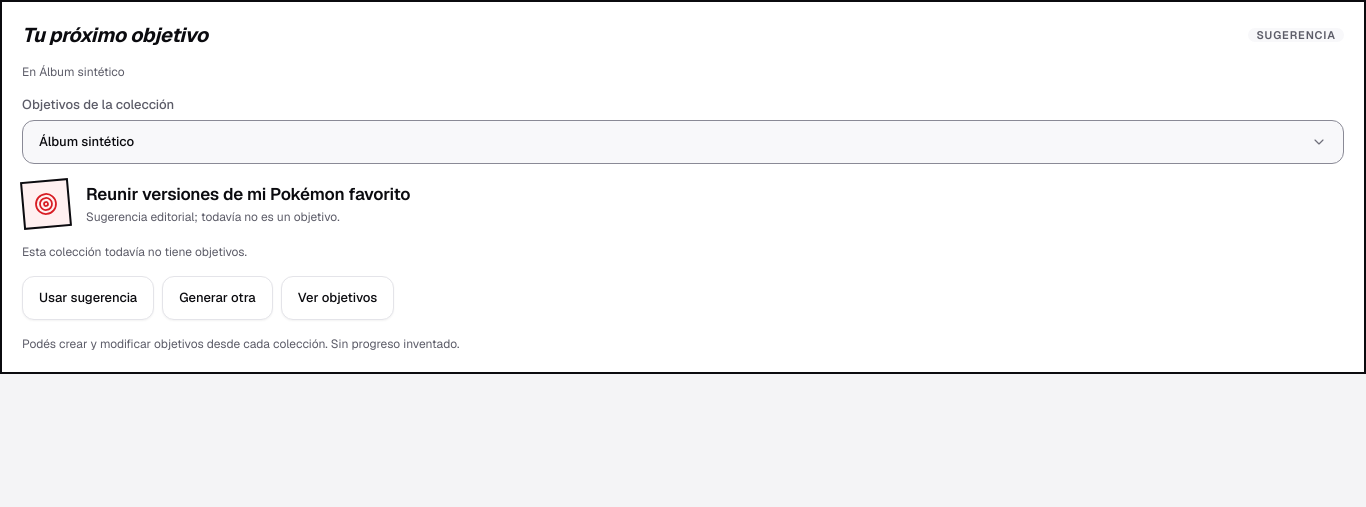
Test: Objetivo de Home — S3/S4 › abre el editor precargado, cancela sin cambios y guarda sólo al confirmar; recarga sin inventar próximo
Click the button "Usar sugerencia". click: (88, 298)
box: [22,276,154,320]
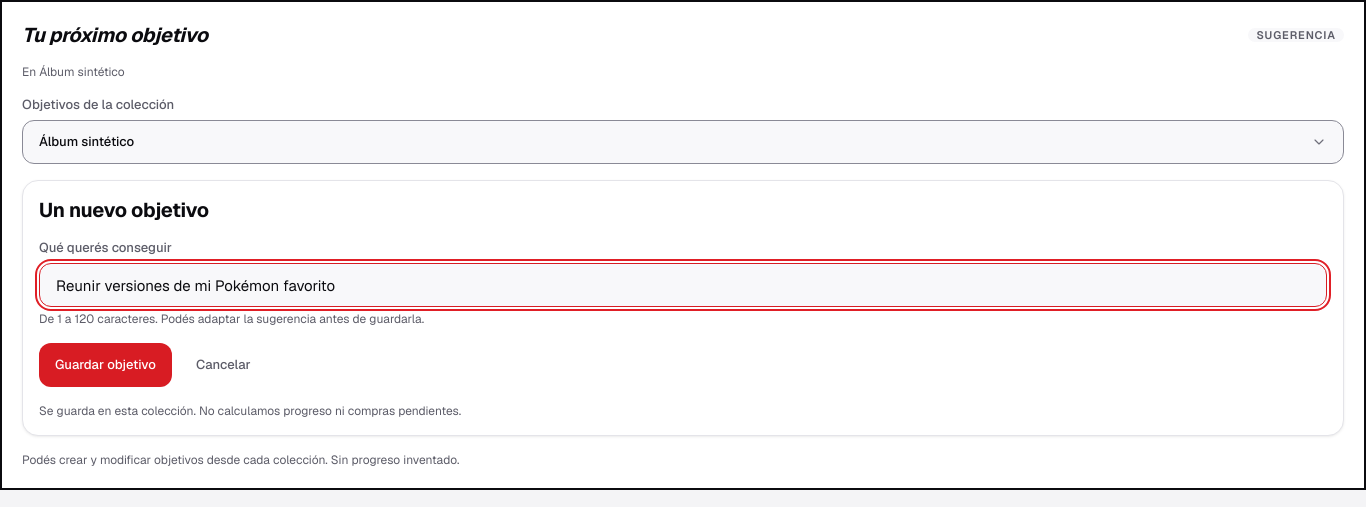
Now the field labelled "Qué querés conseguir" holds "Reunir versiones de mi Pokémon favorito", box [39,263,1327,307]
Click the button "Cancelar". click: (223, 365)
box: [180,343,267,387]
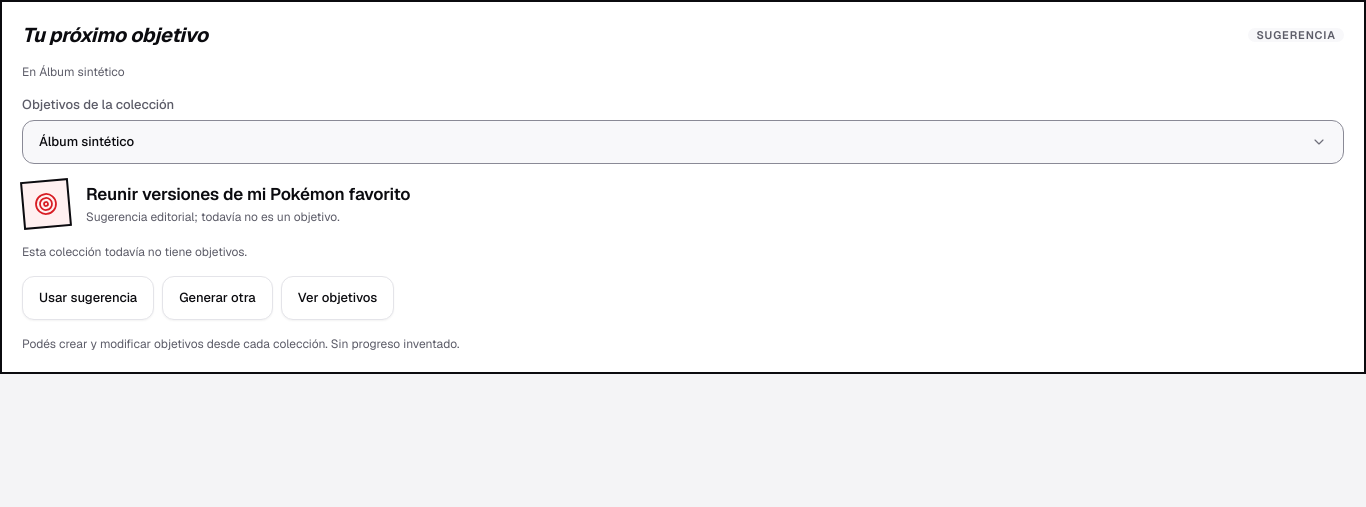
Now the field is gone
Click the button "Usar sugerencia". click: (88, 298)
box: [22,276,154,320]
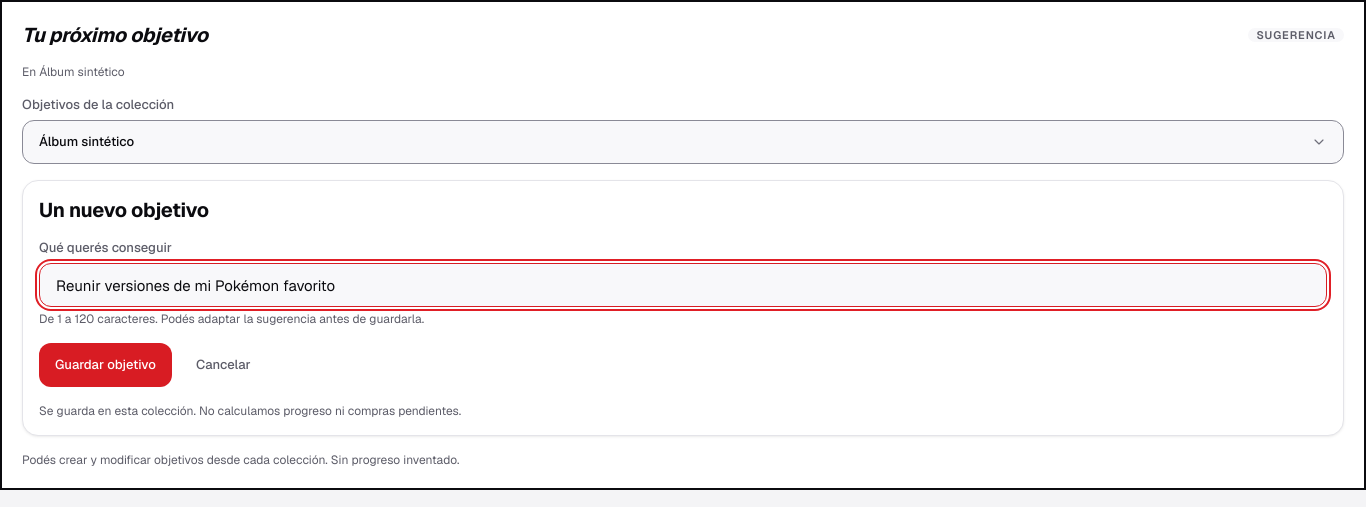
Replace the text in the field with "Mi idea guardada". click: (683, 285)
box: [39,263,1327,307]
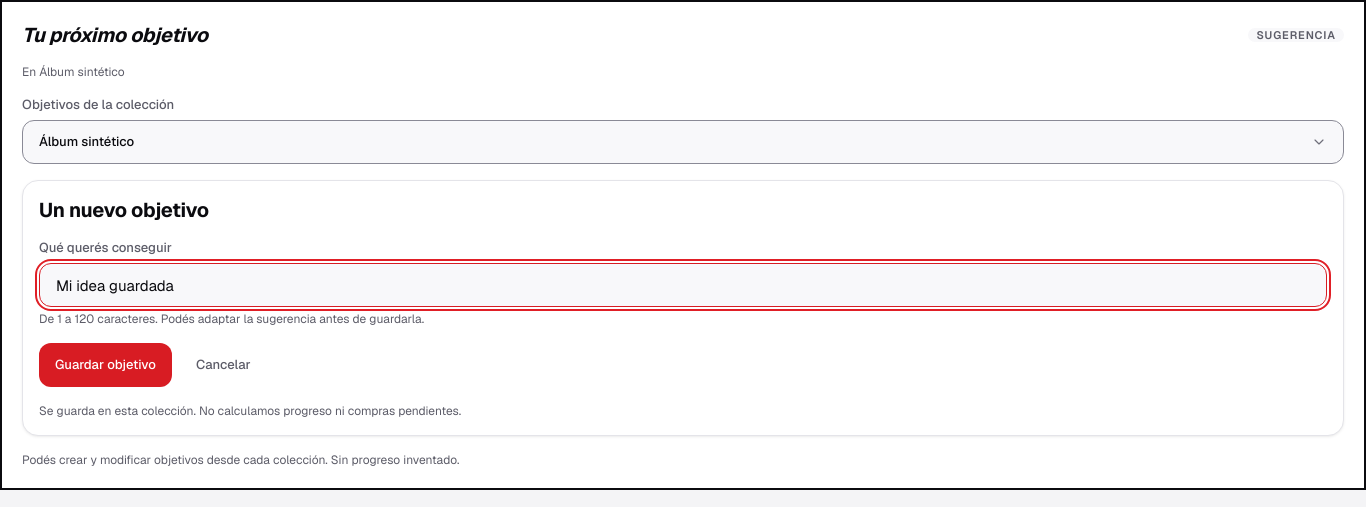
Click the button "Guardar objetivo". click: (105, 365)
box: [39,343,172,387]
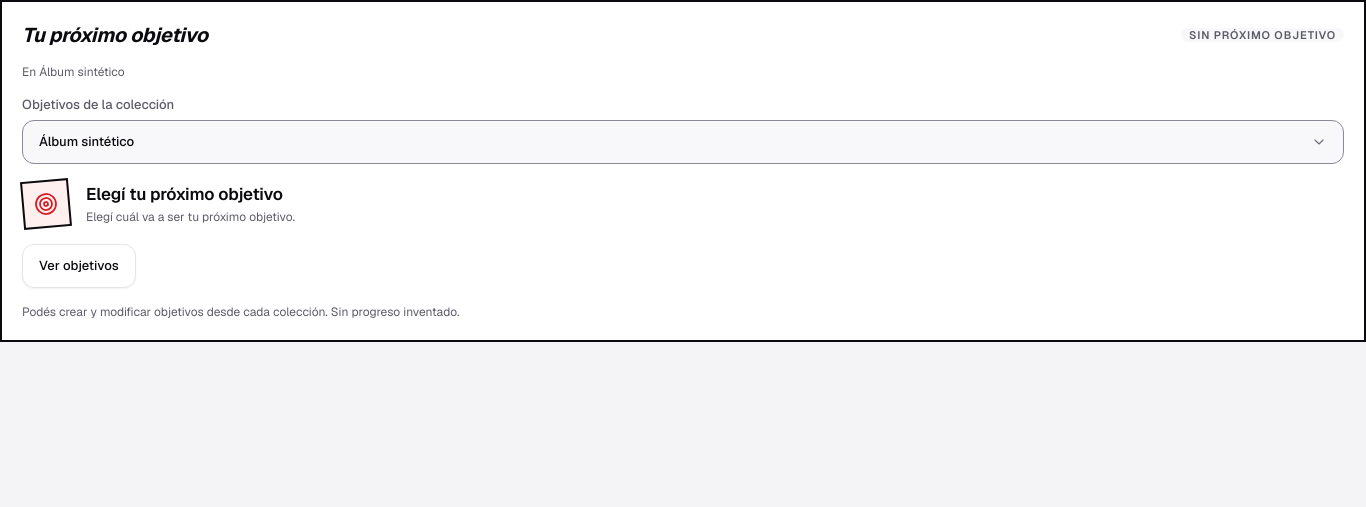
Now the text "Elegí cuál va a ser tu próximo objetivo." is shown, box [86,209,295,225]
Now the field is gone
